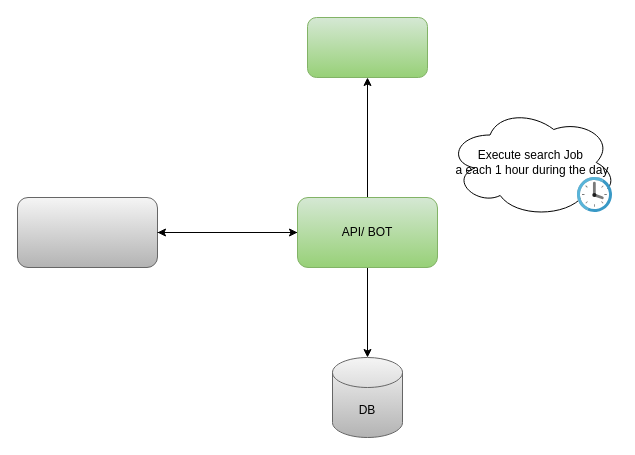
Some shapes in this 635 by 455 pixel diagram are drawn without their labels. Each missing label, with the centre of its shape:
"api sckicanner" belongs at (x=87, y=232).
"WhatsApp API" belongs at (x=367, y=47).
